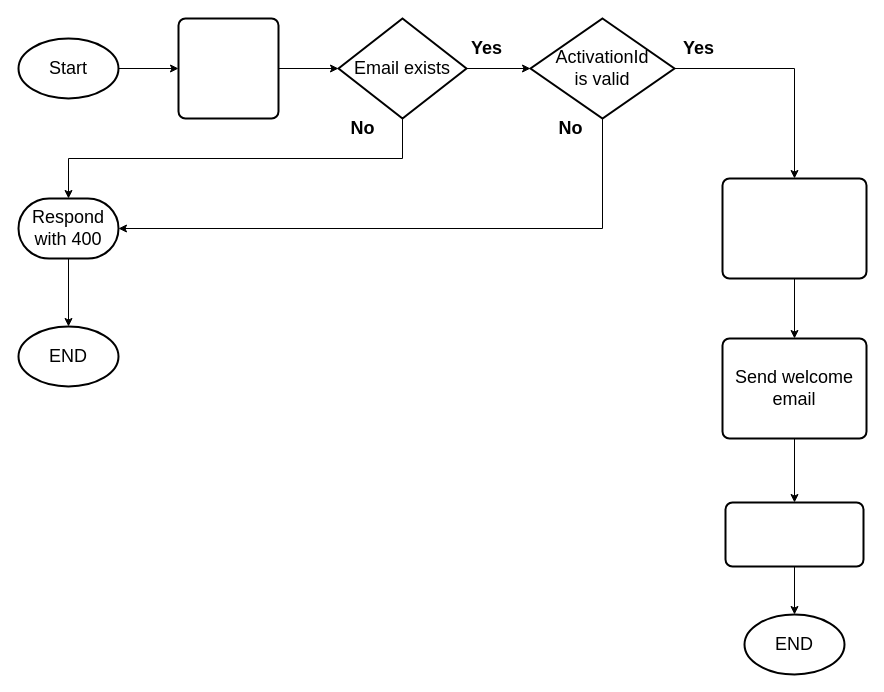
Image size: 884x692. Some labels were removed from this diagram. The shapes that lost their labels are listed below. From the top down, each one's box as (x1, y1, x2, y2) in pixels, then its label:
(177, 17, 279, 119): Activate User
(721, 177, 867, 279): Set the user to be active
(724, 501, 864, 567): Respond with 200
